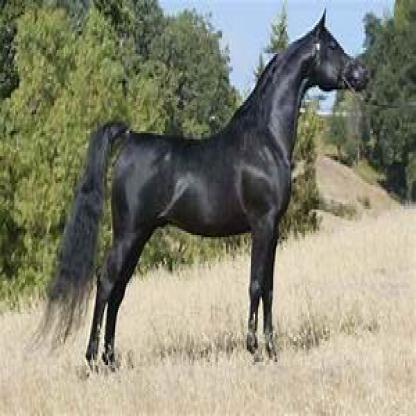horse: (48, 8, 369, 362)
